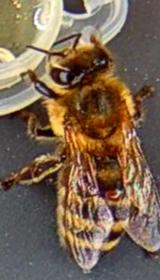varroa_mite: (97, 176, 134, 208)
